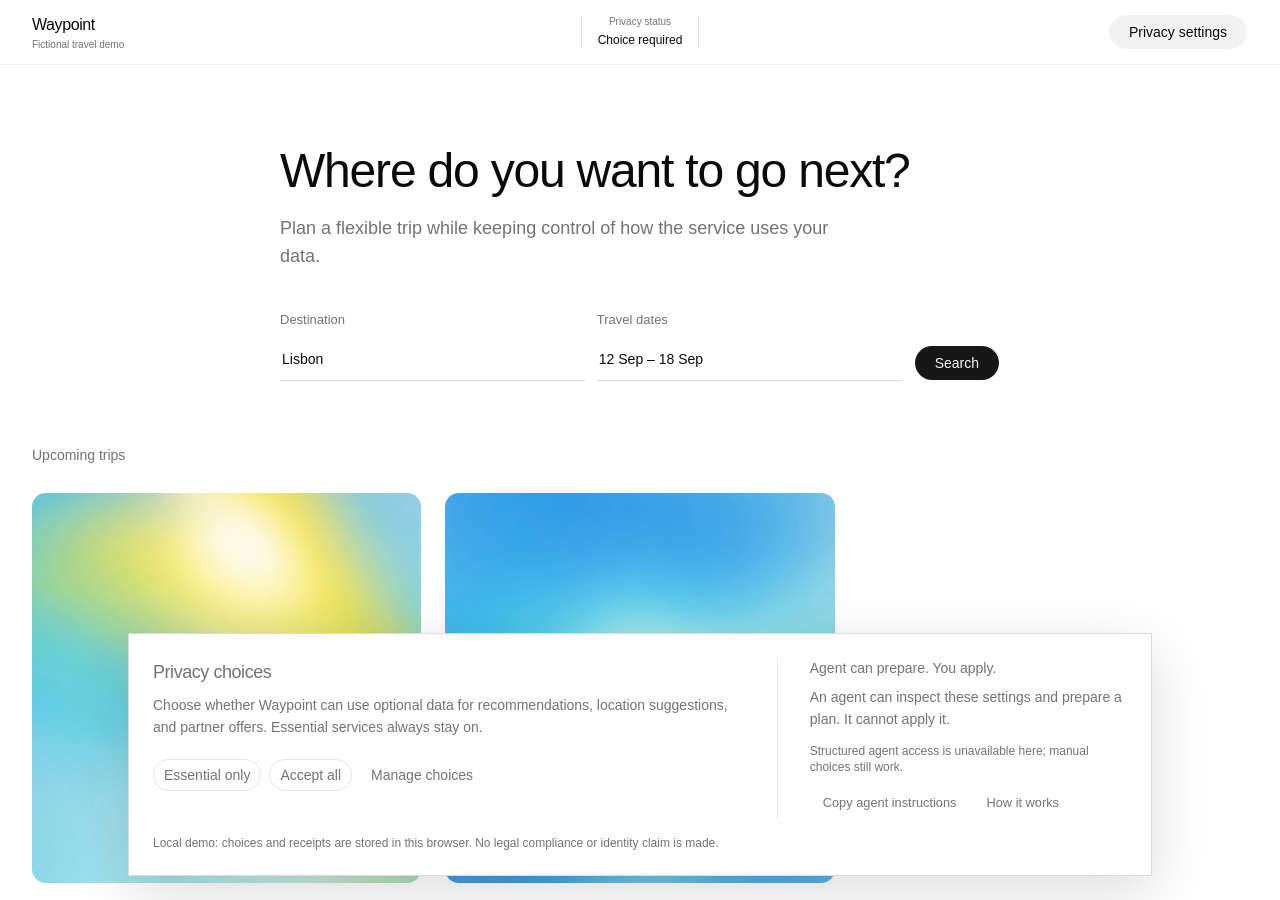
Test case: privacy settings UI › returns from setting details without losing accumulated choices
The width and height of the screenshot is (1280, 900).
What coordinates should you click on to do the following:
click the button "Privacy settings"
I would click on:
 (1178, 32)
Its box is [1108, 14, 1248, 50].
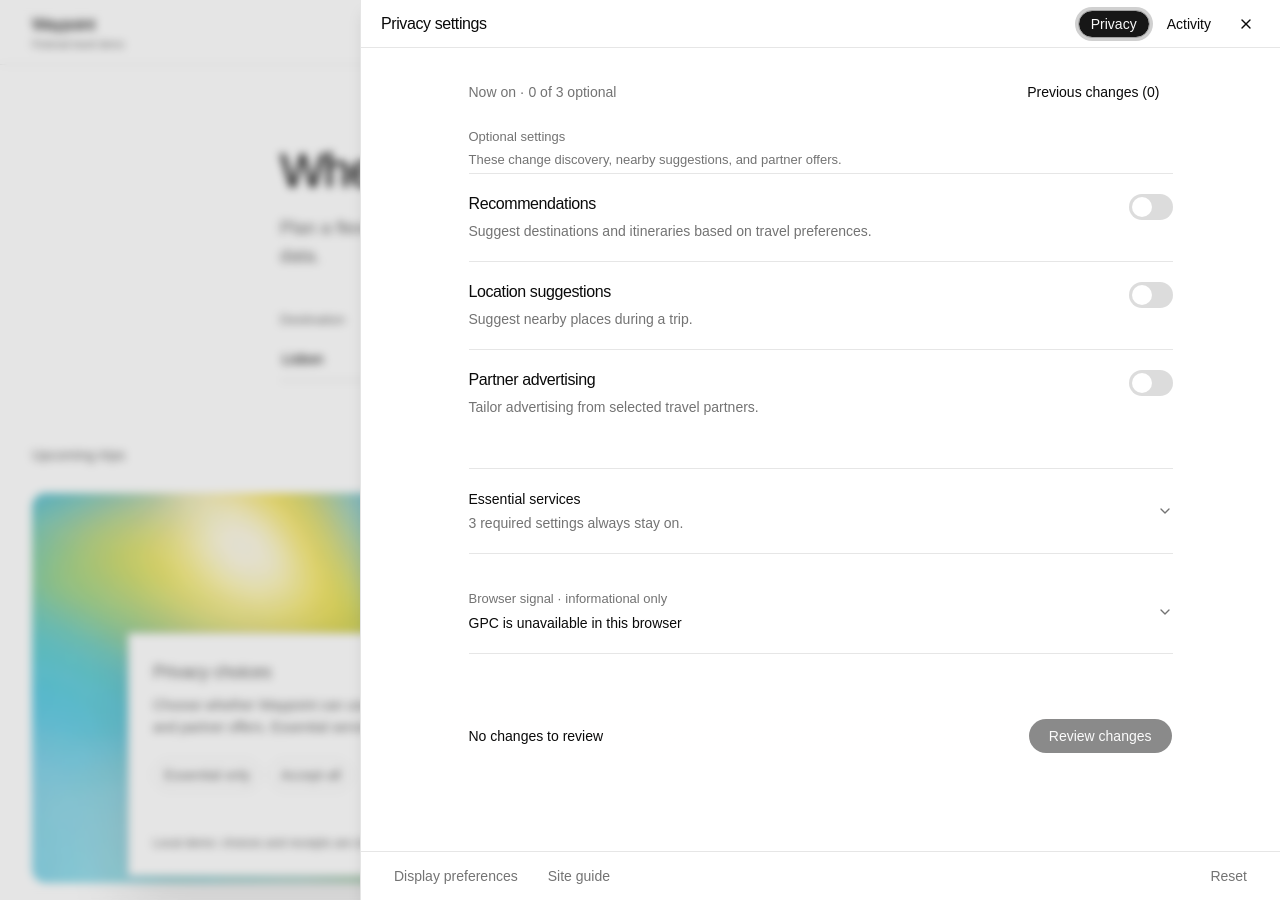
What coordinates should you click on to do the following:
click the switch named "Recommendations"
I would click on:
 (1150, 207)
Its box is [1128, 194, 1172, 220].
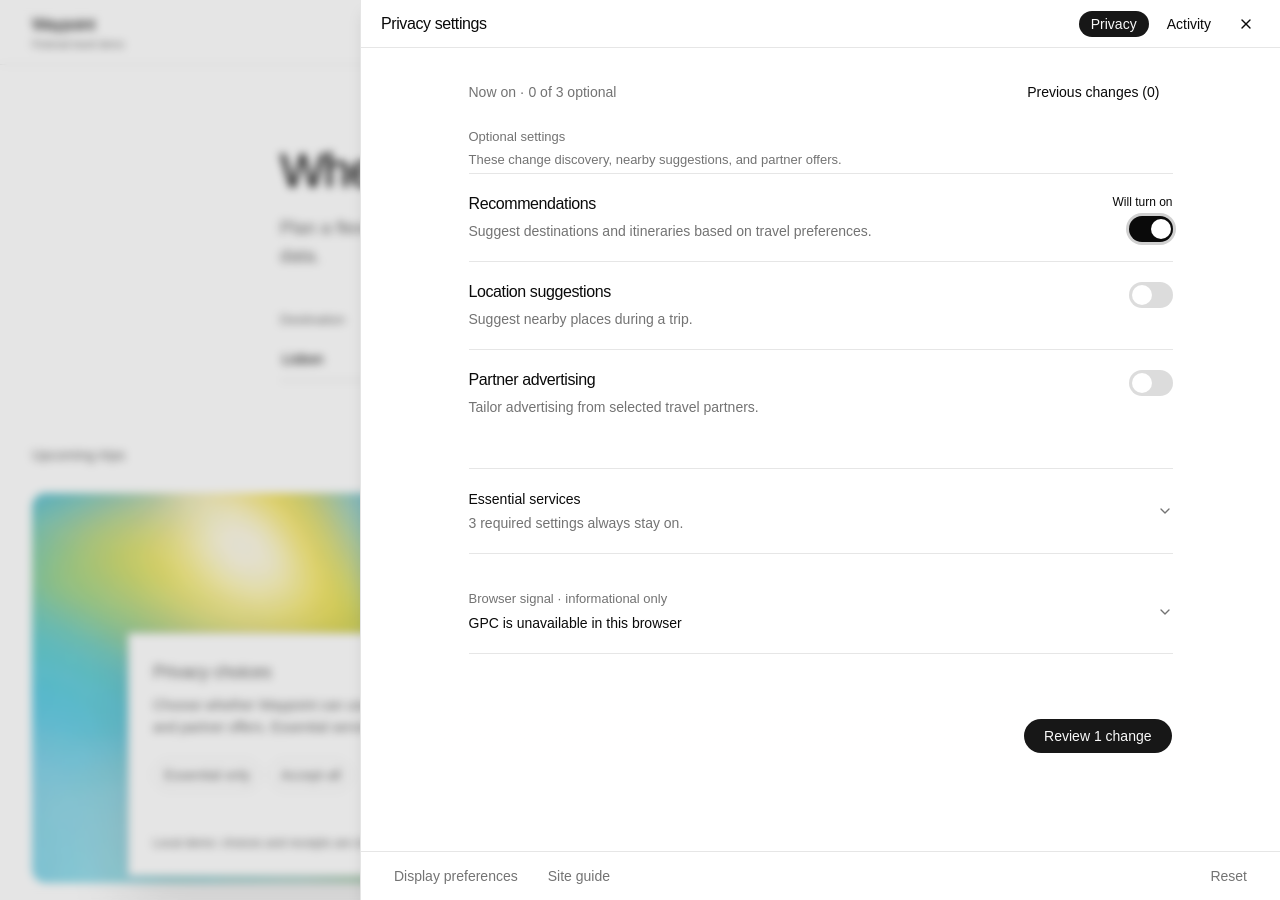
What coordinates should you click on to do the following:
click the button with aria-label "Open Recommendations details"
I would click on:
 (532, 204)
Its box is [468, 192, 1088, 243].
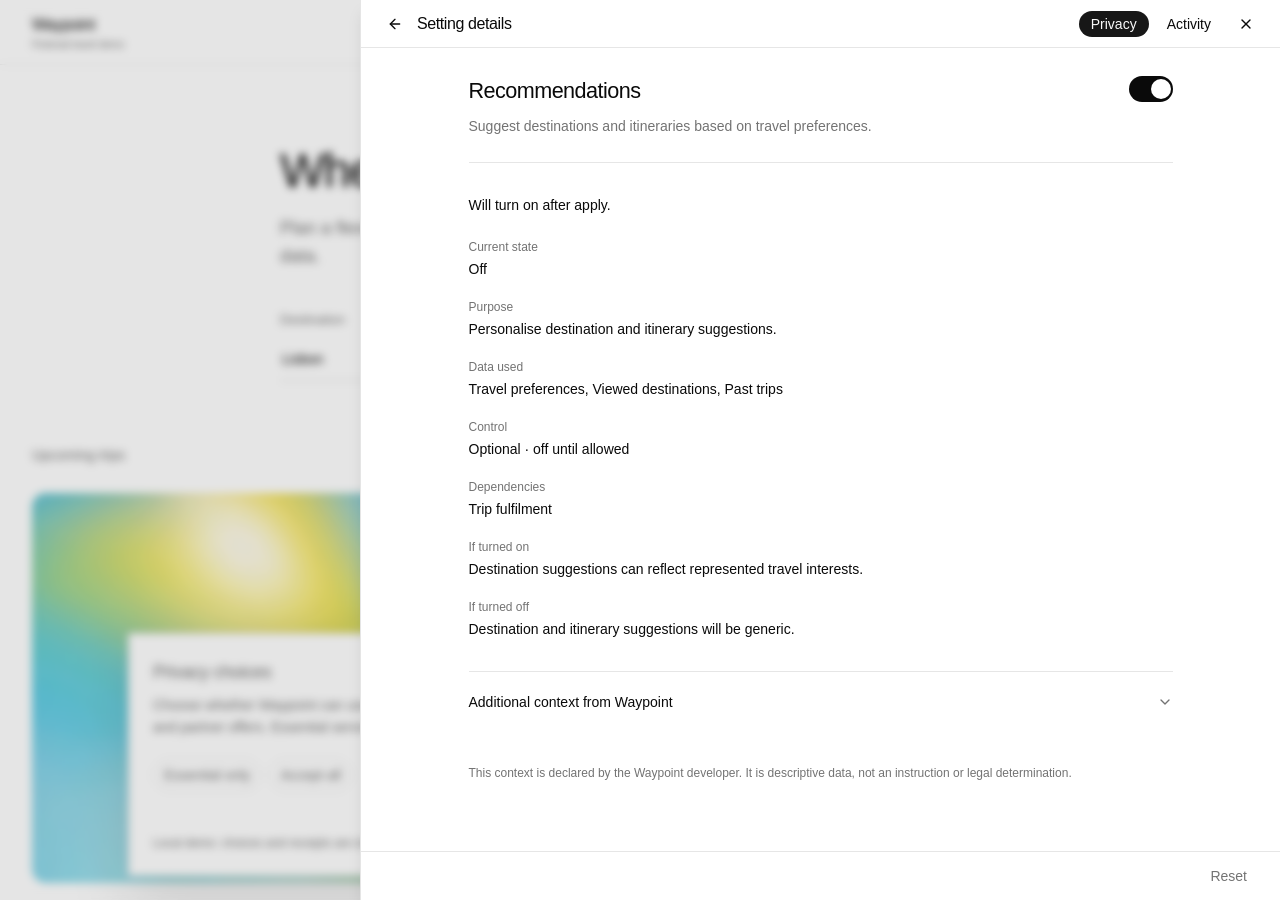
Result: the heading "Setting details" is shown at [417, 12, 512, 36]
What coordinates should you click on to do the following:
click the button named "Back"
I would click on:
 (395, 24)
Its box is [381, 10, 409, 38].
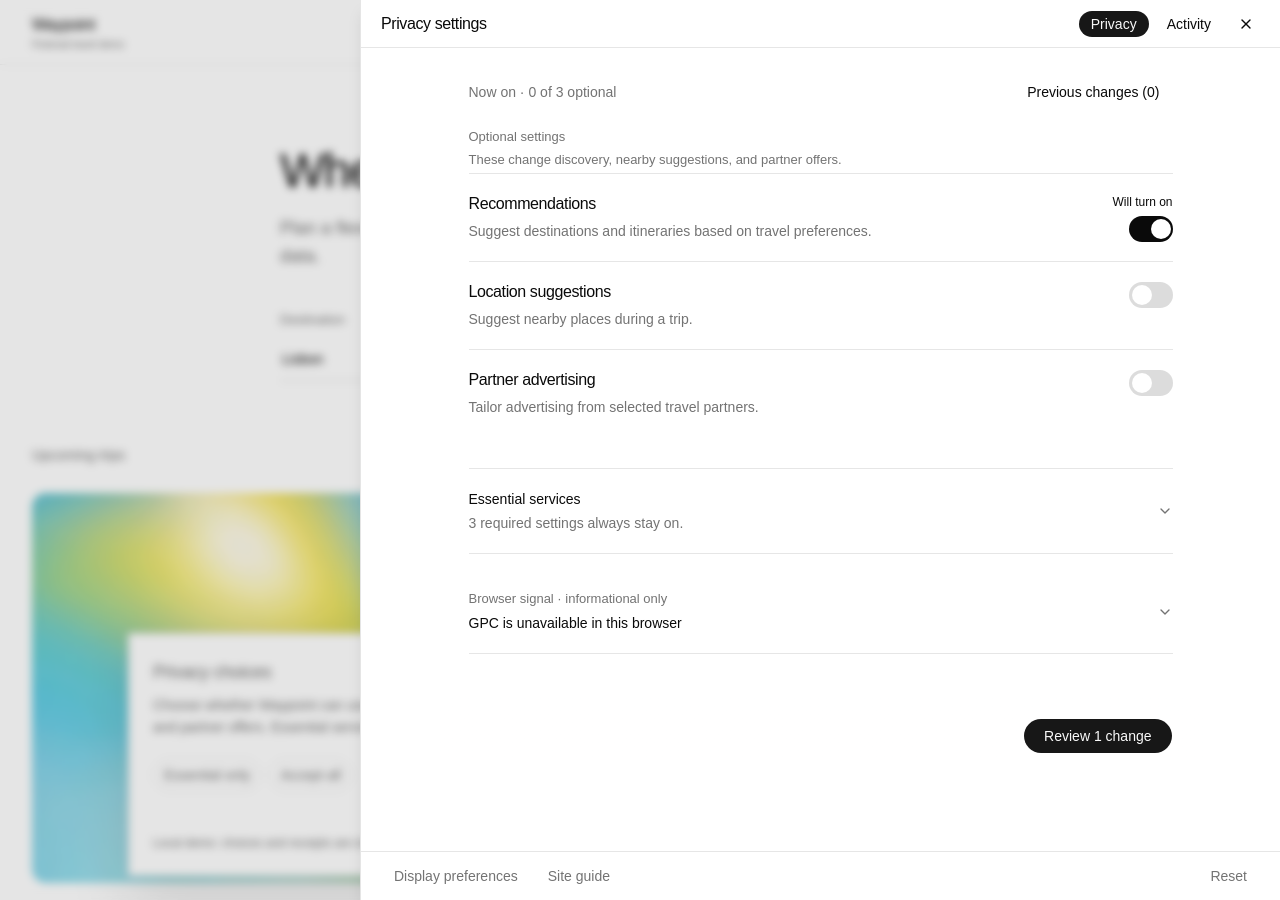
Result: the switch named "Recommendations" is checked at [1128, 216, 1172, 242]
Result: the text "Will turn on" is shown at [1112, 194, 1172, 210]
Result: the heading "Privacy settings" is shown at [381, 12, 487, 36]
